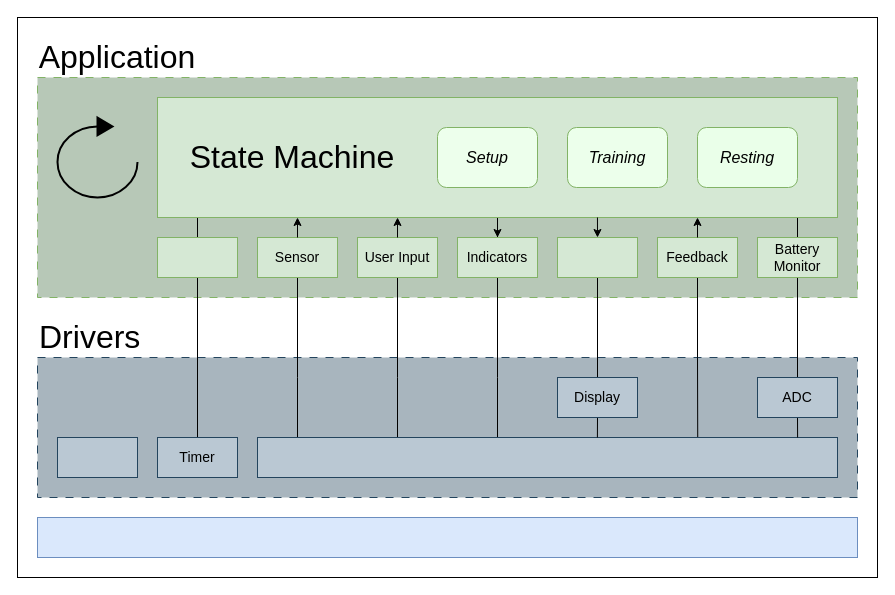
Some shapes in this 895 by 595 pixel diagram are drawn without their labels. Each missing label, with the centre of its shape:
"Display Manager" belongs at [597,257].
"GPIO" belongs at [547,457].
"Main Loop" belongs at [97,157].
"MCU Init" belongs at [97,457].
"Microcontroller" belongs at [447,537].
"Time Service" belongs at [197,257].
